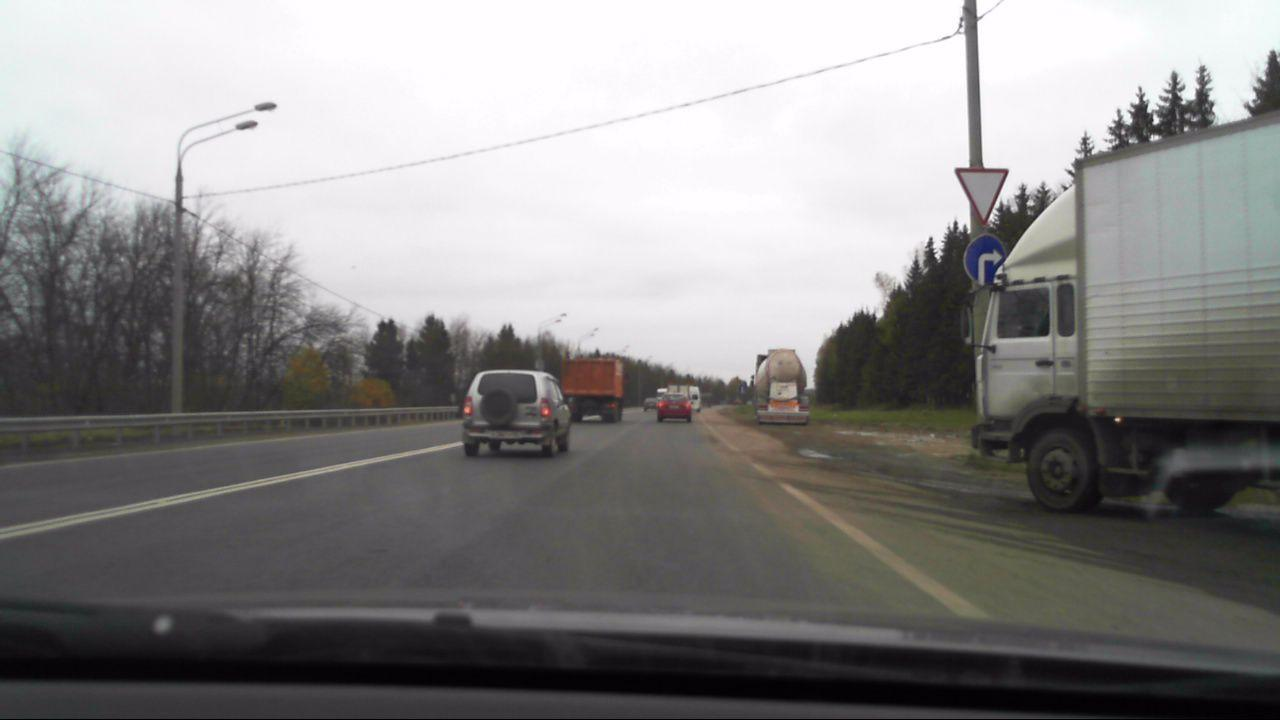2_4: (950, 167, 1011, 224)
4_1_2: (961, 233, 1009, 287)
